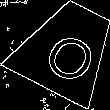O_NE: (33, 16, 101, 81)
